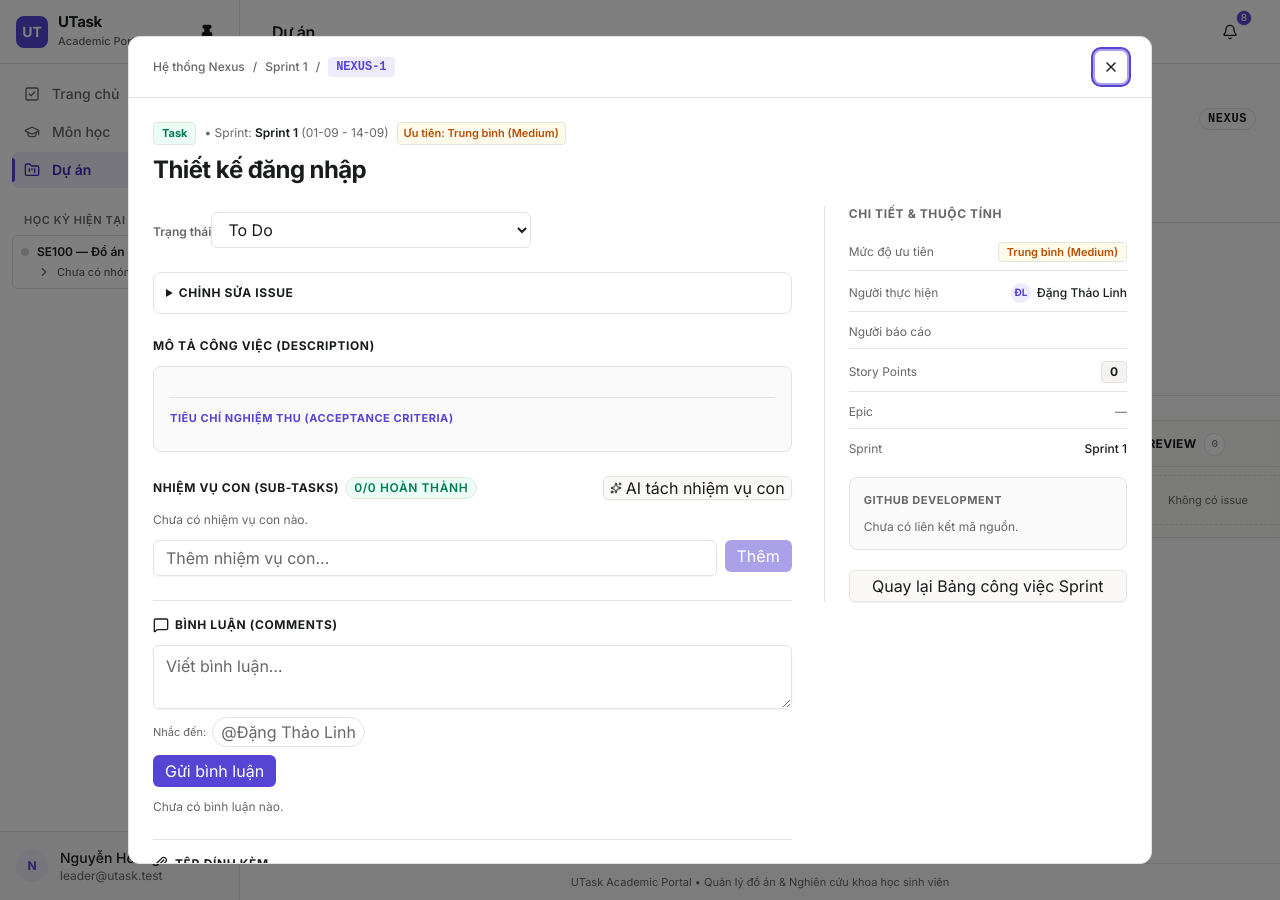
Test: AI task decomposition › shows how long to wait when the AI rate limits the request
The image size is (1280, 900).
Click the button "AI tách nhiệm vụ con" at (697, 488), box [603,476,792,500]
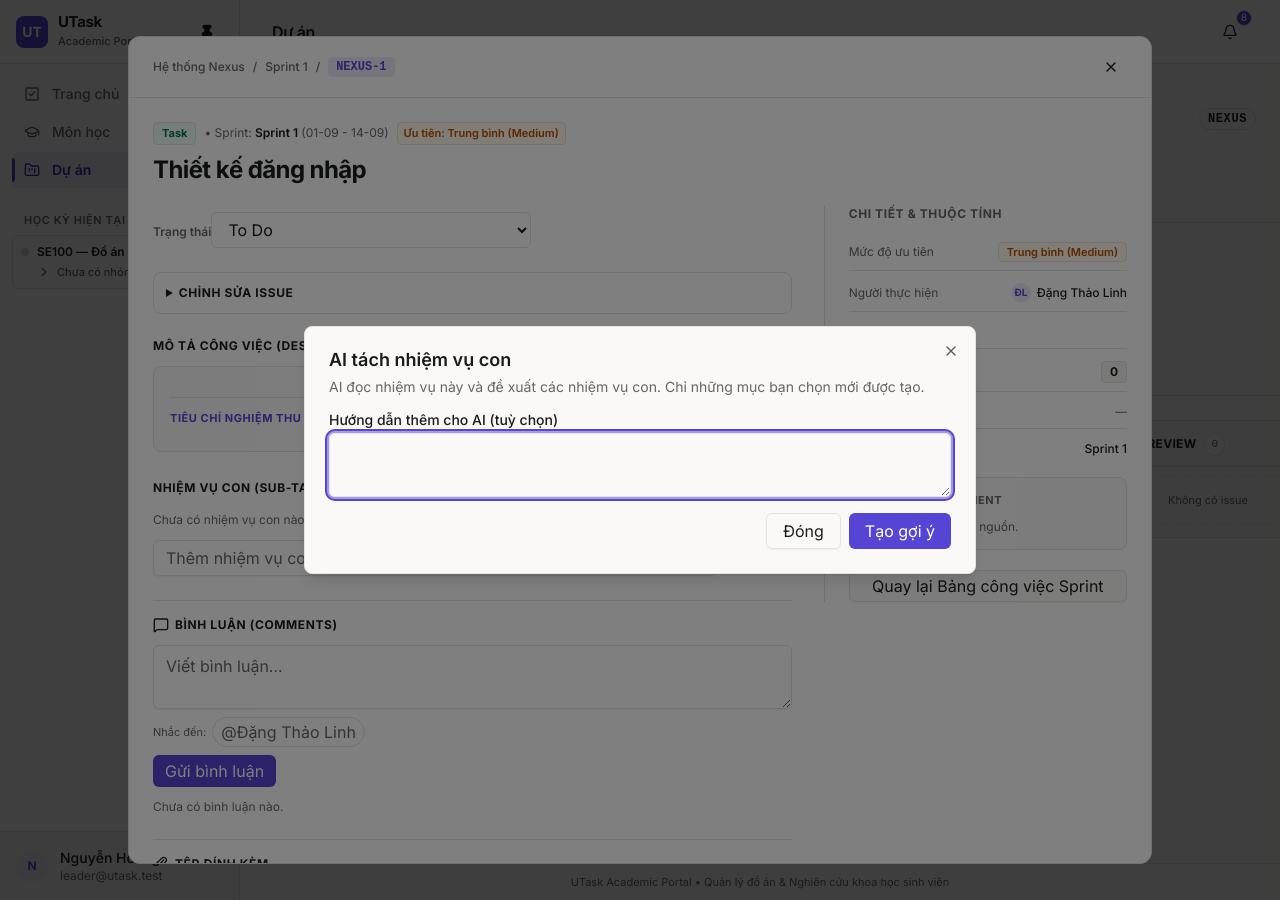
Click the button "Tạo gợi ý" at (900, 531), box [849,513,951,549]
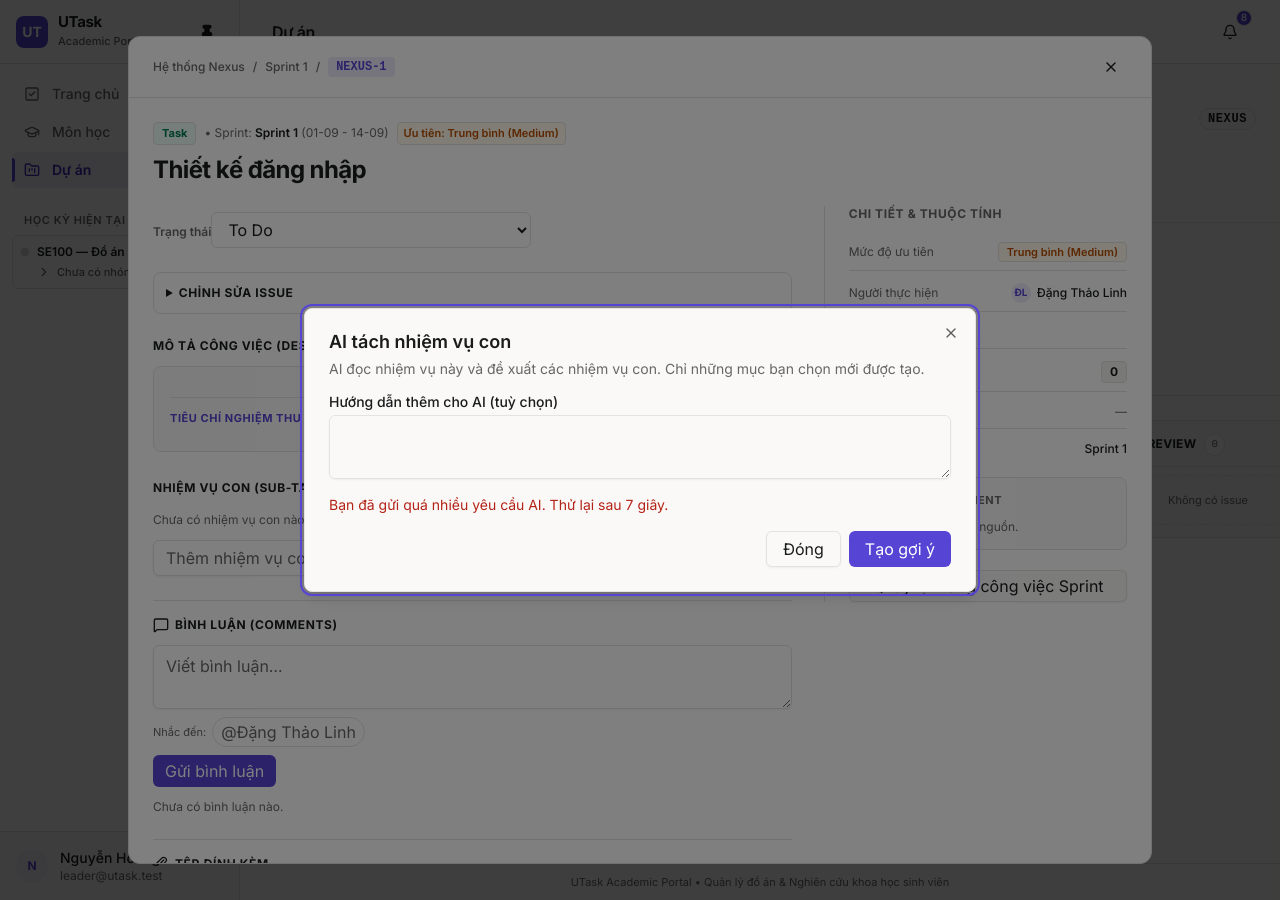
expect the text "Bạn đã gửi quá nhiều yêu cầu AI. Thử lại sau 7 giây." is shown: met, box [329,496,668,513]
